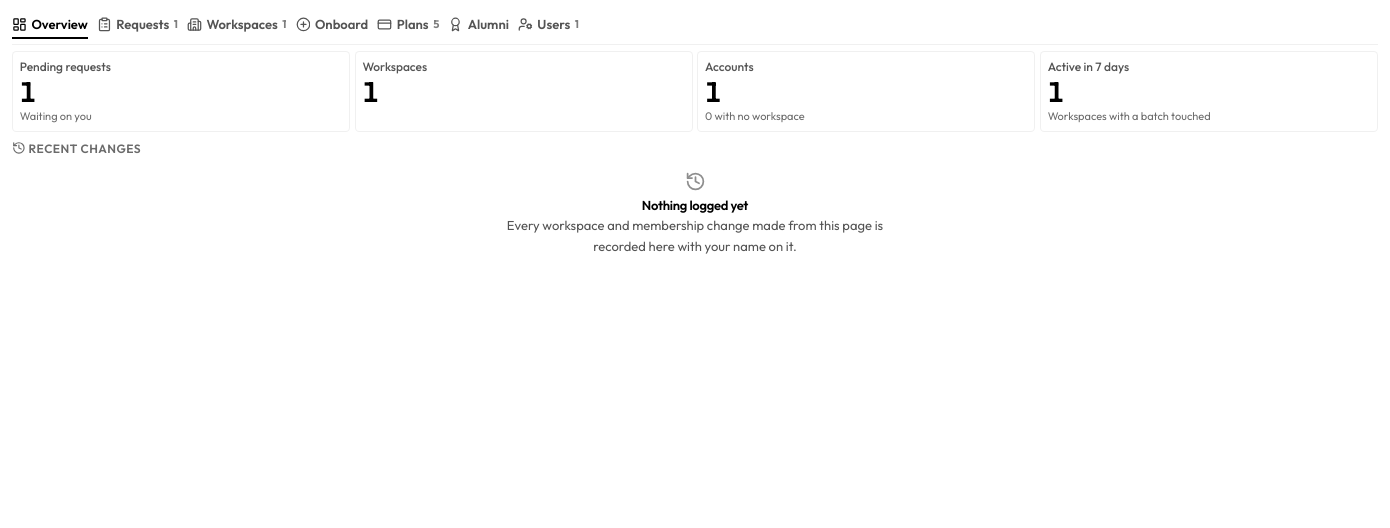
Test: FounderConsole — plan history and alumni › a tier rename reads as a rename, not as every shop changing plan
The image size is (1390, 528).
Click the tab "Workspaces 1": (237, 26) [187, 12, 286, 39]
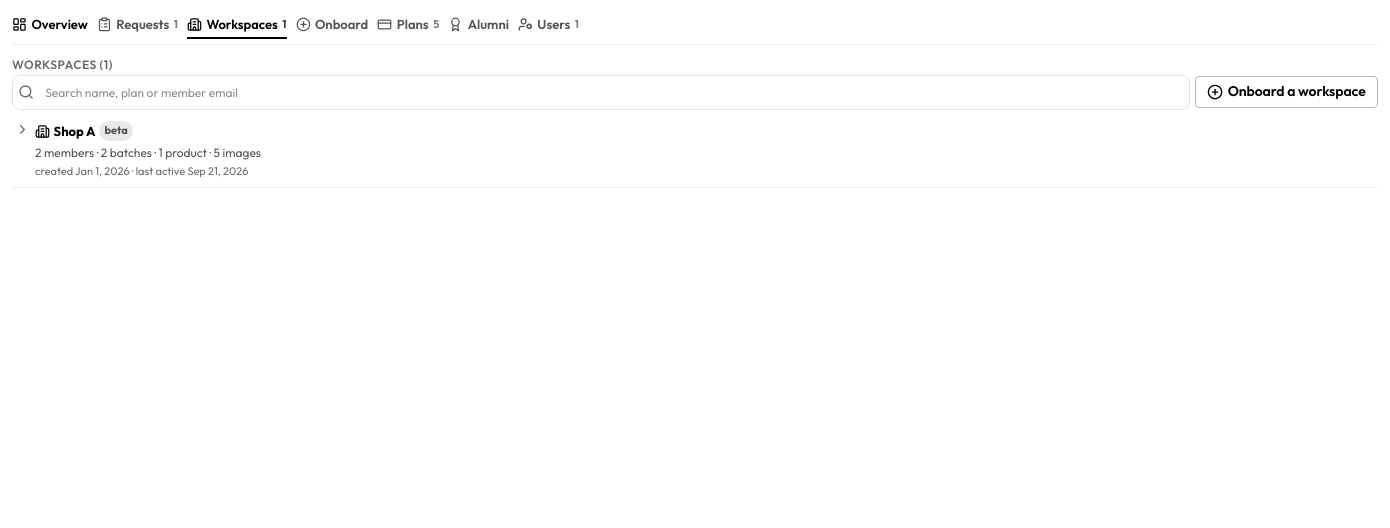
Click the button with class "fc-org-head": (74, 131) [12, 114, 1378, 187]
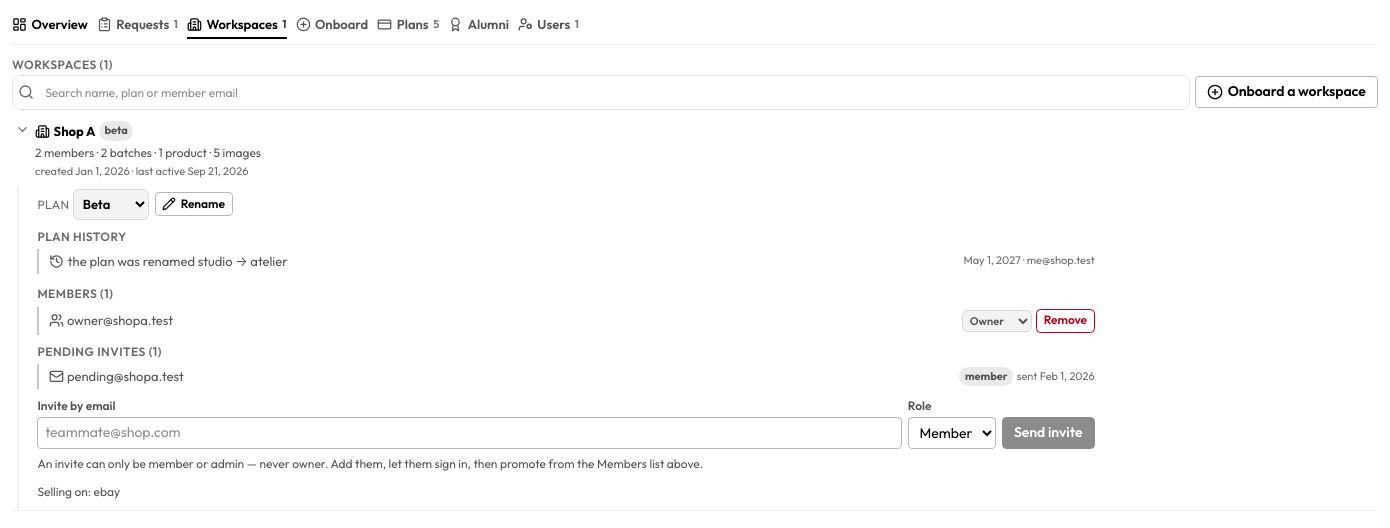
Check: the element with class "fc-org-body" shows "the plan was renamed studio → atelier", box [68, 253, 288, 269]
